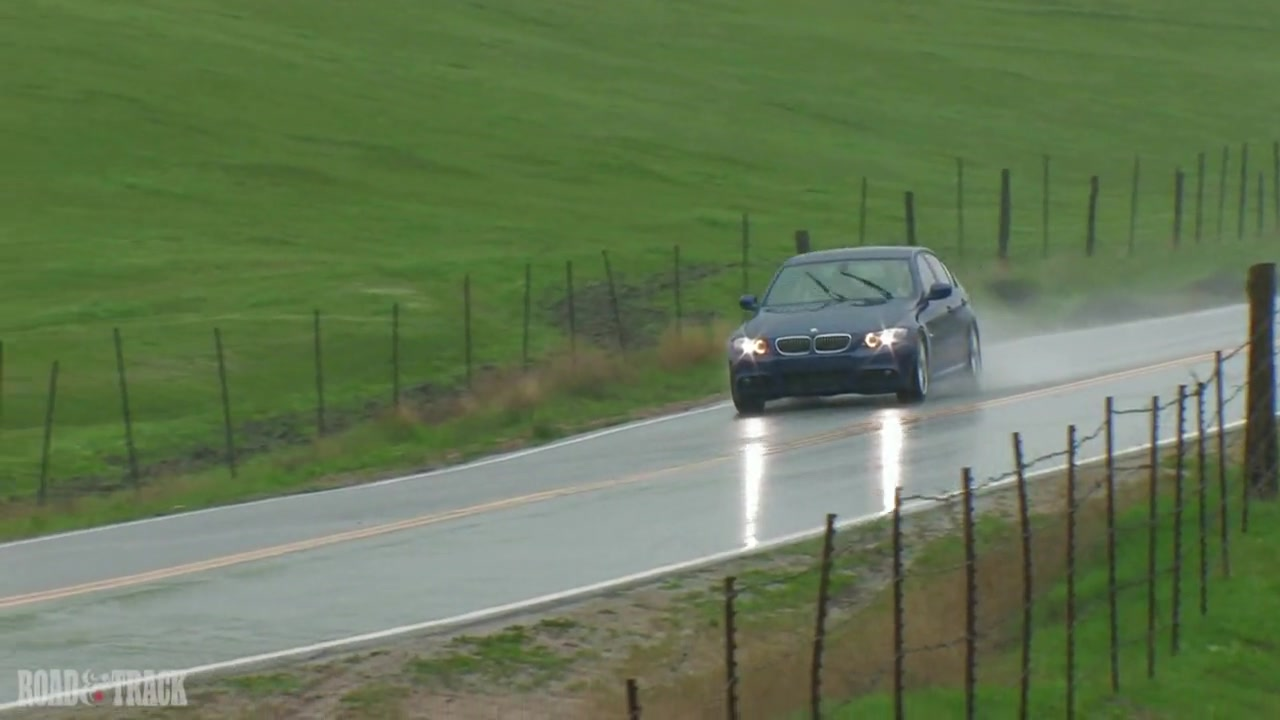car: (729, 251, 988, 413)
